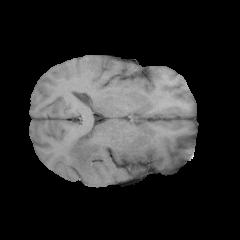glioma: (64, 135, 102, 176)
